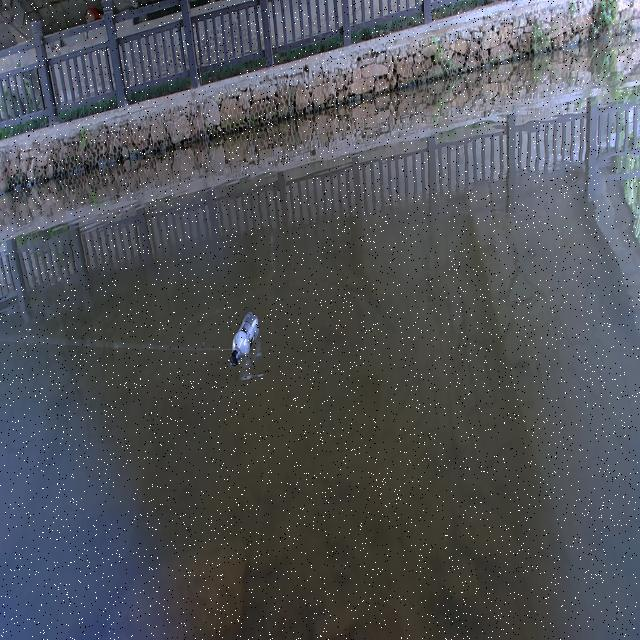Bottle: (226, 308, 261, 368)
